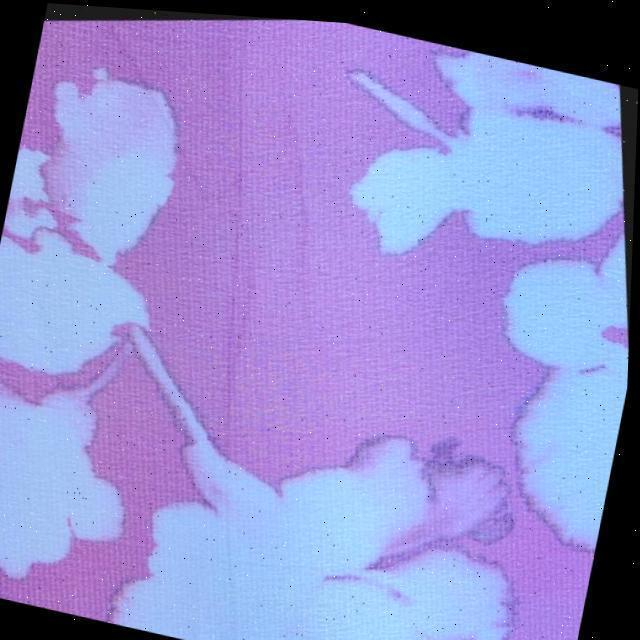pulled_or_thick_thread: (227, 50, 249, 427)
